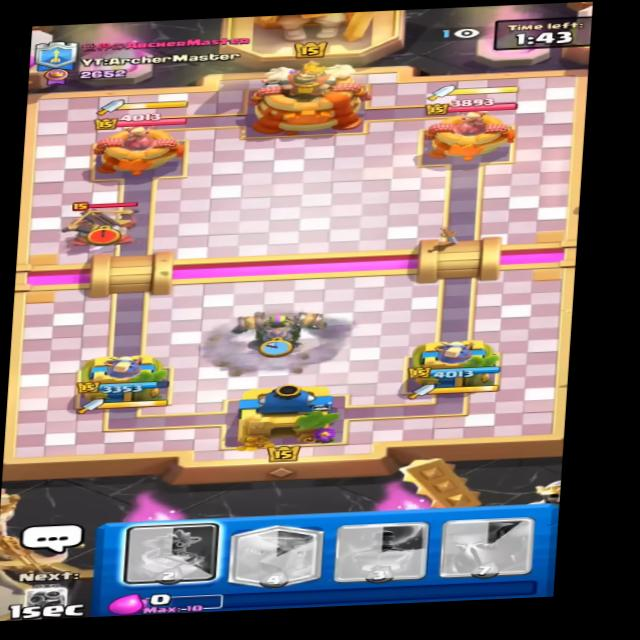x-bow: (60, 198, 156, 254)
